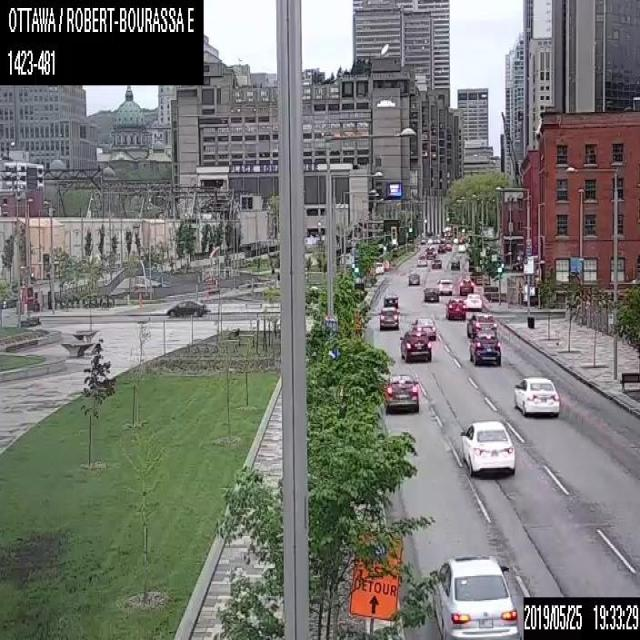construction: (350, 541, 403, 639)
vehicle: (432, 552, 519, 639), (459, 418, 515, 478), (513, 375, 562, 417), (384, 371, 421, 413), (468, 332, 500, 365), (399, 328, 431, 360), (465, 312, 496, 337), (166, 299, 204, 316), (410, 316, 436, 340), (377, 306, 399, 330), (445, 298, 465, 320), (463, 292, 482, 310), (382, 289, 398, 307), (436, 278, 452, 294), (422, 286, 438, 302), (459, 277, 473, 295), (406, 271, 420, 284), (416, 254, 427, 266), (450, 258, 460, 270), (431, 257, 441, 268)
